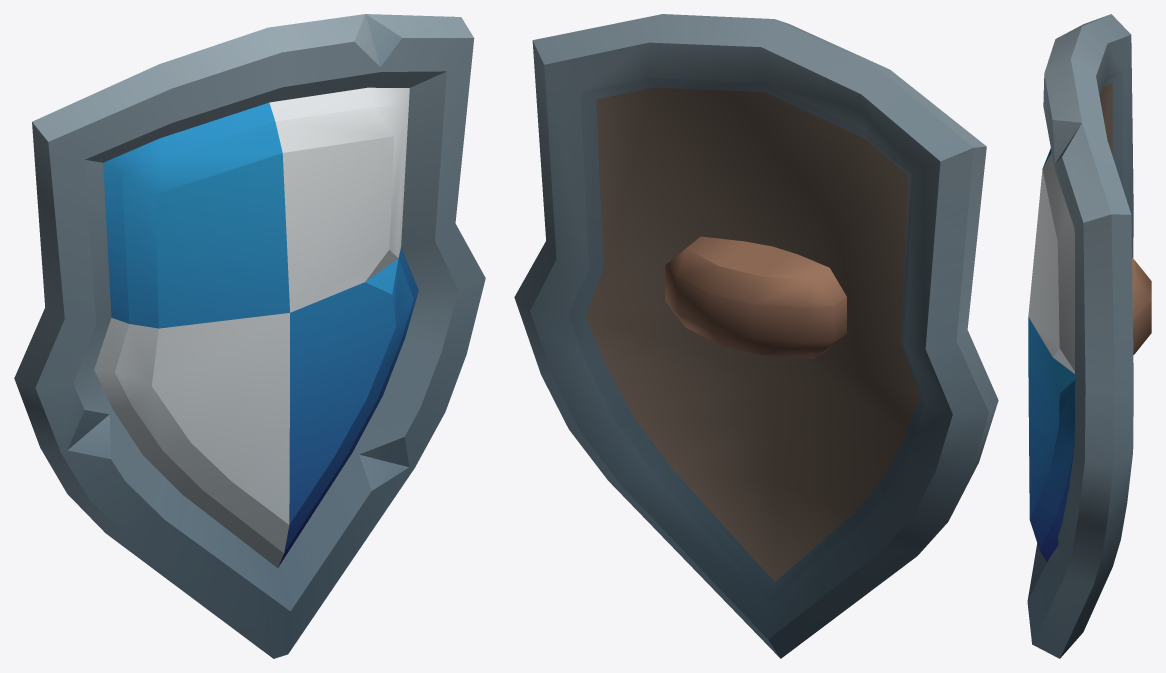
The model's file is shield_B.glb.
The picture shows the model from 3 angles, left to right: view 1: azimuth 30°, elevation 25°; view 2: azimuth 150°, elevation 25°; view 3: azimuth 270°, elevation 25°; orthographic projection. The views are drawn at different scales.
Visible parts, largest first — view 1: shield_B; view 2: shield_B; view 3: shield_B.
Boxes of the visible parts, bbox=[...] form: shield_B: bbox=[14, 14, 485, 658]; shield_B: bbox=[514, 14, 998, 658]; shield_B: bbox=[1027, 14, 1151, 658].
Size of the model in its own units: 1.02 by 1.32 by 0.248.
1 material, 1 textured.
